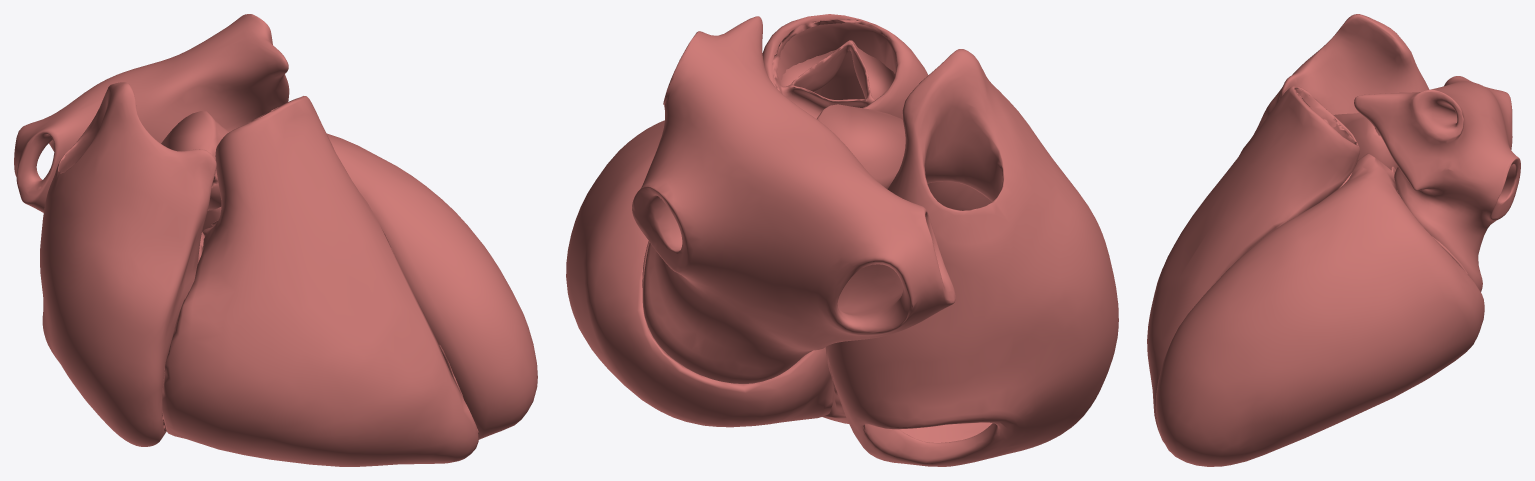
File: vh_m_heart-40.glb
3 renders of one model, left to right at view 1: azimuth 30°, elevation 25°; view 2: azimuth 150°, elevation 25°; view 3: azimuth 270°, elevation 25°, orthographic. The views are drawn at different scales.
Parts seen in each view (by area): view 1: VH_M_heart_right_ventricle, VH_M_right_cardiac_atrium, VH_M_heart_left_ventricle, VH_M_left_cardiac_atrium, VH_M_aortic_valve; view 2: VH_M_left_cardiac_atrium, VH_M_right_cardiac_atrium, VH_M_heart_left_ventricle, VH_M_heart_right_ventricle, VH_M_pulmonary_valve, VH_M_aortic_valve; view 3: VH_M_heart_left_ventricle, VH_M_heart_right_ventricle, VH_M_left_cardiac_atrium, VH_M_right_cardiac_atrium, VH_M_aortic_valve.
Boxes of the visible parts, box(x1,y1,x2,y2) form: VH_M_heart_right_ventricle: box(162, 96, 478, 466); VH_M_right_cardiac_atrium: box(40, 82, 216, 446); VH_M_heart_left_ventricle: box(202, 133, 537, 439); VH_M_left_cardiac_atrium: box(14, 14, 289, 212); VH_M_aortic_valve: box(161, 111, 229, 210); VH_M_left_cardiac_atrium: box(632, 16, 955, 383); VH_M_right_cardiac_atrium: box(825, 49, 1118, 466); VH_M_heart_left_ventricle: box(566, 120, 833, 427); VH_M_heart_right_ventricle: box(762, 14, 928, 423); VH_M_pulmonary_valve: box(772, 19, 895, 118); VH_M_aortic_valve: box(817, 104, 905, 189); VH_M_heart_left_ventricle: box(1155, 153, 1484, 466); VH_M_heart_right_ventricle: box(1147, 86, 1359, 442); VH_M_left_cardiac_atrium: box(1354, 76, 1520, 291); VH_M_right_cardiac_atrium: box(1239, 14, 1429, 155); VH_M_aortic_valve: box(1334, 112, 1397, 169).
Size of the model in its own units: 0.1243 by 0.1054 by 0.1053.
